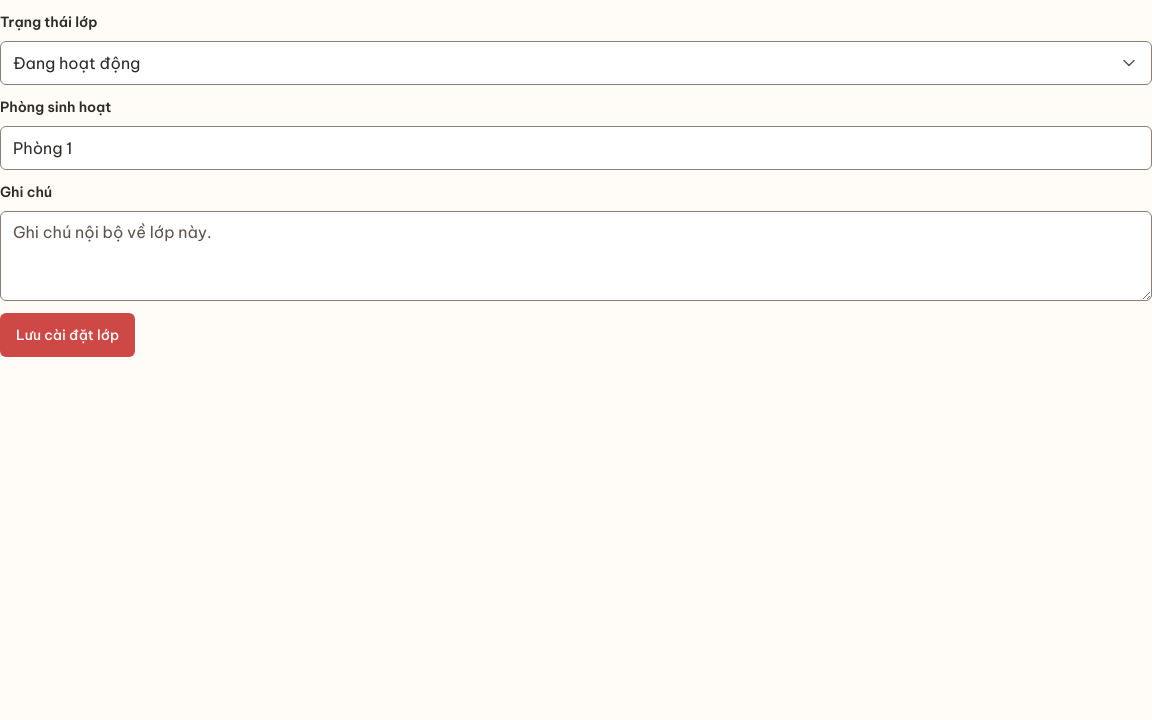
it: hộp xác nhận chỉ mở khi thật cần (BR-M02-N11) › huỷ hộp xác nhận thì không ghi gì
The image size is (1152, 720).
Select "Tạm ngưng" in the dropdown labelled "Trạng thái lớp" at (49, 22), box x1=0 y1=13 x2=98 y2=31
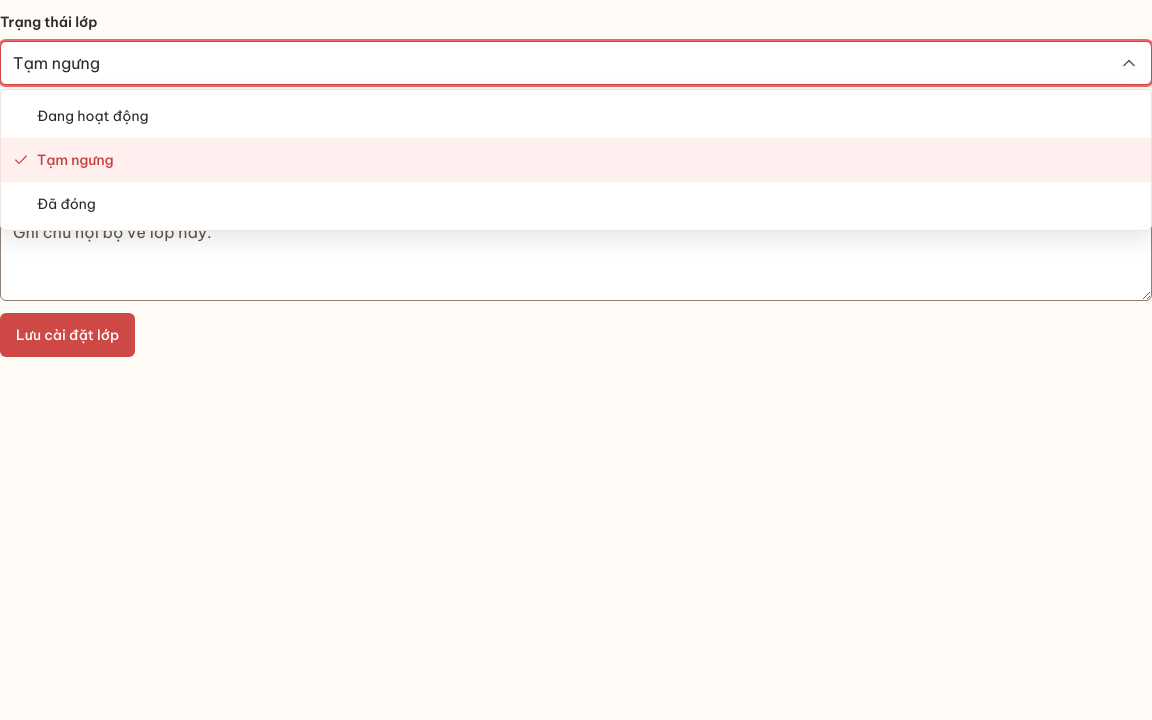
Click the button "Lưu cài đặt lớp" at (68, 335), box x1=0 y1=313 x2=135 y2=357
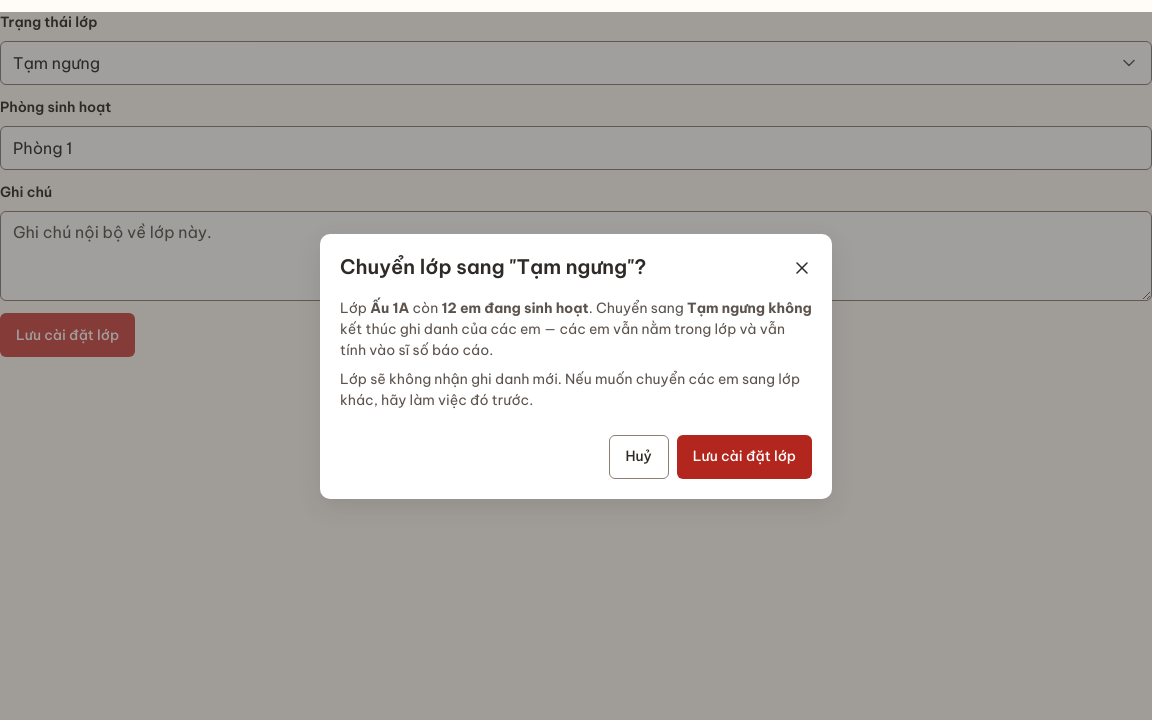
Click the button "Huỷ" at (639, 456), box x1=608 y1=434 x2=669 y2=478
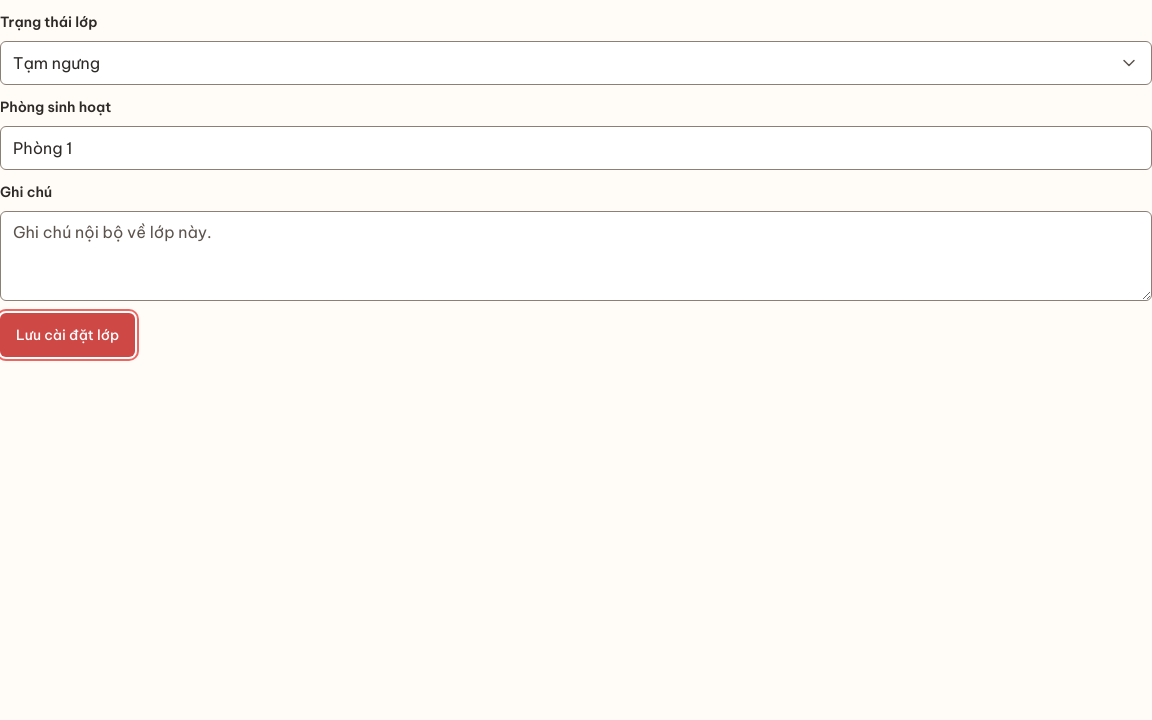
Expected: the dialog is gone
